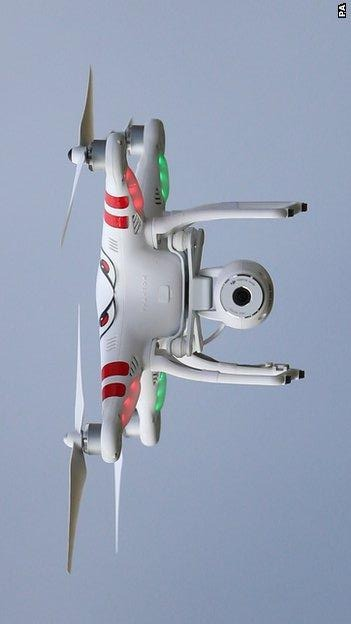drone: (58, 65, 308, 579)
